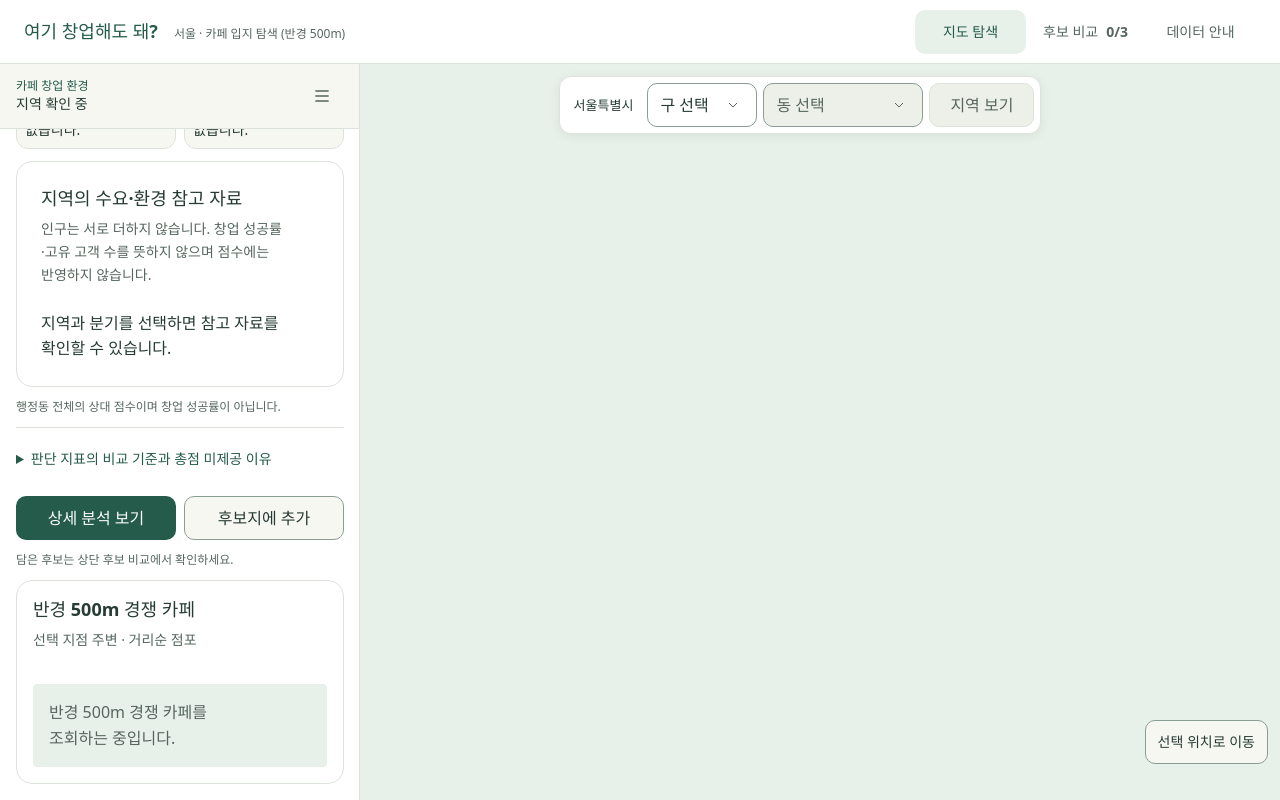
names saved candidates by their resolved region and shows unavailable scoring without a fake number
The width and height of the screenshot is (1280, 800).
(page scrolled)
Click the button "후보지에 추가" at (264, 518), box [184,496,344,540]
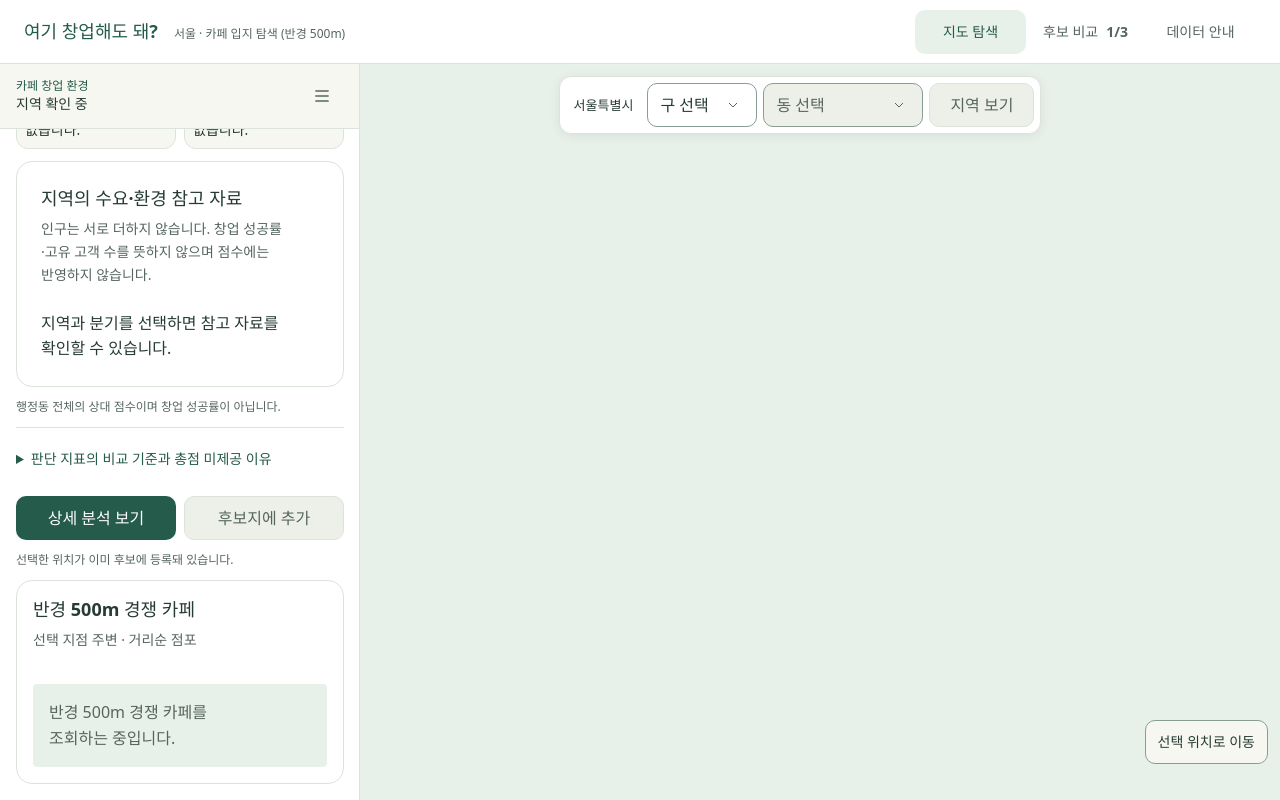
Click the button "후보 비교 1/3" at (1086, 32), box [1030,10,1141,54]
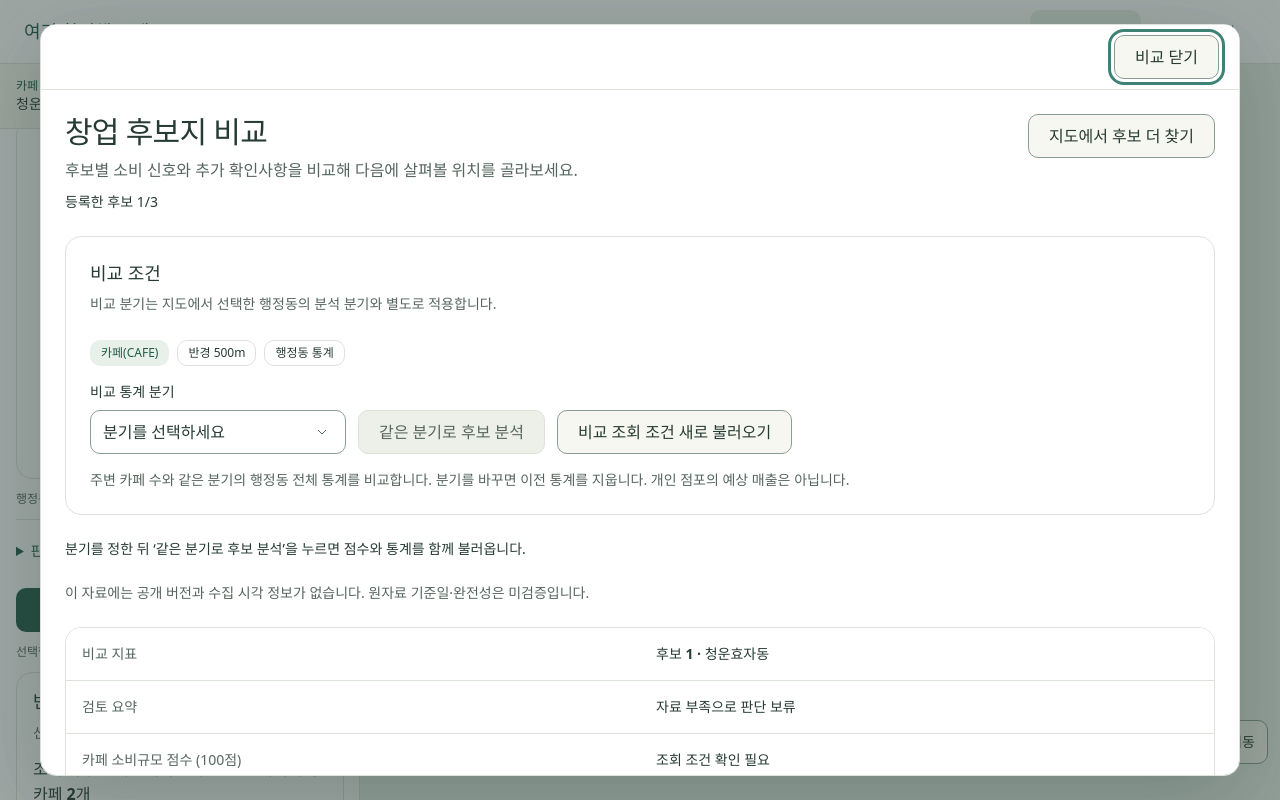
Now the row "검토 요약 자료 부족으로 판단 보류" is shown, box [66,681,1214,734]
Now the button "같은 분기로 후보 분석" is shown, box [358,410,545,454]
